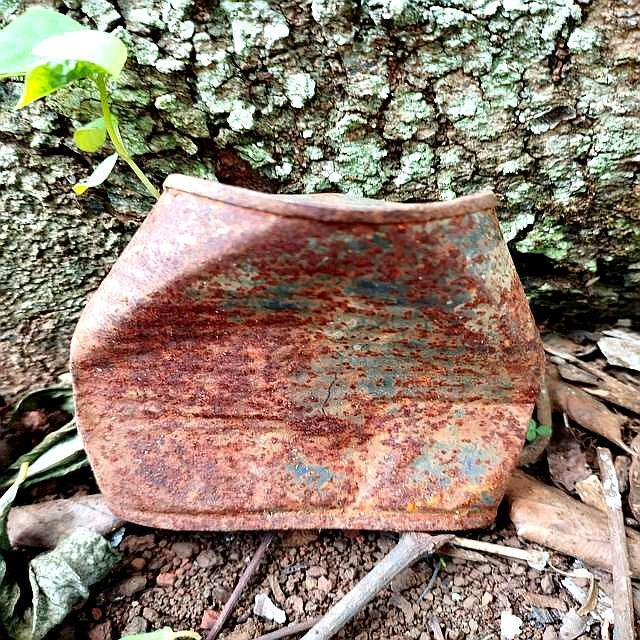Non-biodegradable: (68, 172, 549, 536)
